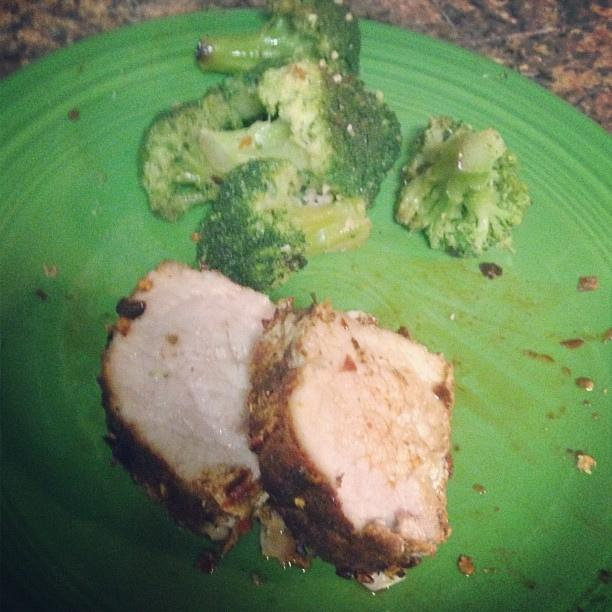broccoli: (199, 49, 403, 210), (194, 156, 374, 290), (392, 115, 532, 260), (194, 5, 362, 76), (137, 100, 228, 223), (222, 57, 290, 128)
